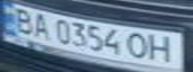0: (51, 16, 72, 46)
3: (66, 20, 87, 48)
4: (103, 27, 127, 56)
5: (84, 24, 106, 53)
A: (27, 11, 54, 39)
B: (6, 6, 39, 35)
H: (145, 33, 181, 64)
O: (124, 30, 151, 61)
